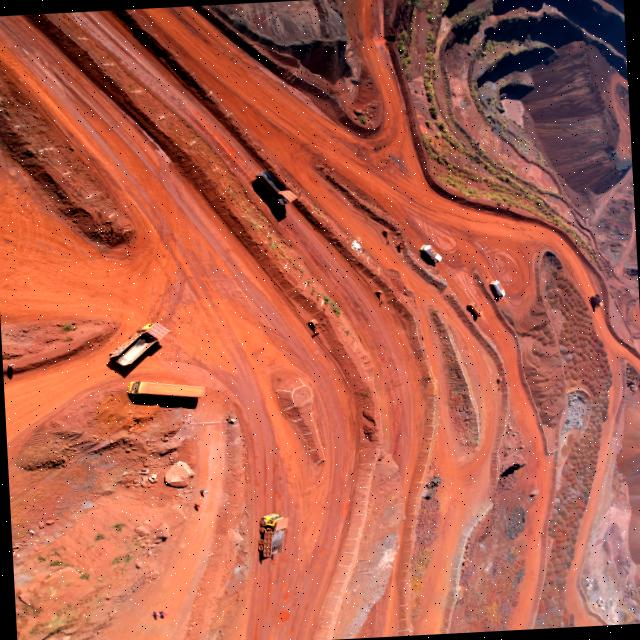Dumper truck: (107, 329, 166, 368), (256, 168, 297, 206), (255, 514, 287, 562), (591, 295, 603, 310)
person: (193, 503, 201, 508), (199, 490, 207, 494), (152, 612, 160, 616), (158, 612, 166, 616), (7, 363, 15, 367)
